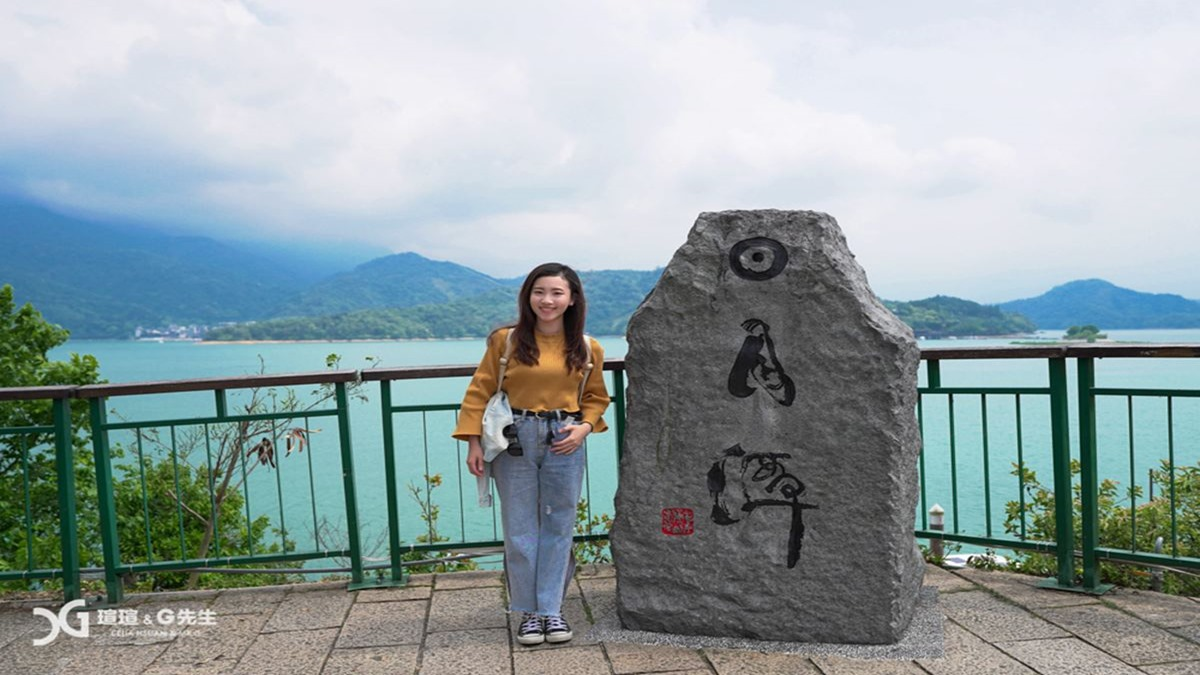people: (463, 265, 617, 648)
